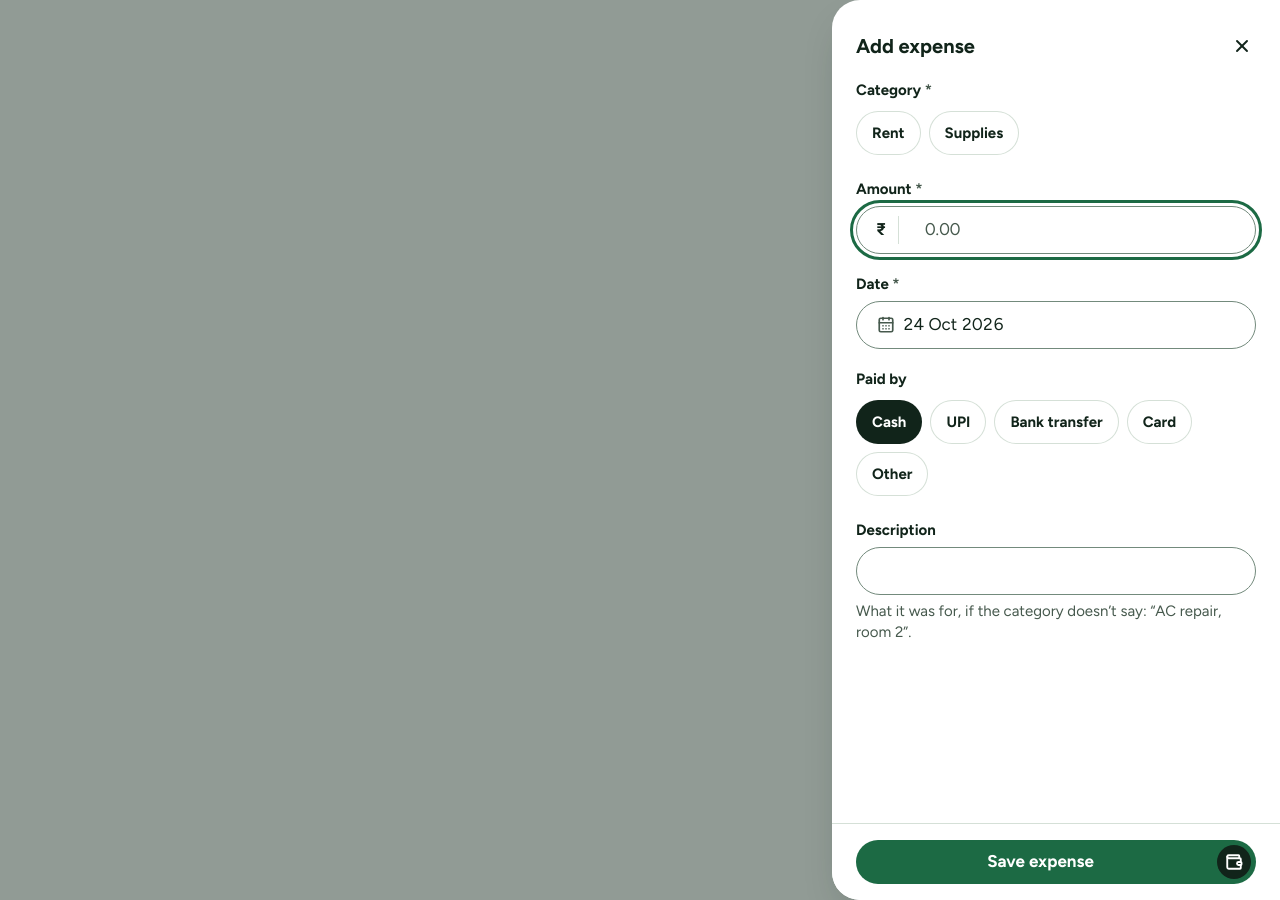
Test case: ExpenseSheet (plan §16; D328, D329, D343) › adds one: a category picked from the chips in use, the amount, today unless changed, cash unless changed
Expected: the radio buttons read "Rent", "Supplies", in this order, [856,111,920,155]; [928,111,1019,155]
Expected: the radio button labelled "Cash" is checked, [856,400,922,444]
// A category must be picked (D343).
Type "1250.50" into the field labelled "Amount *" at (1056, 230), box [856,206,1256,254]
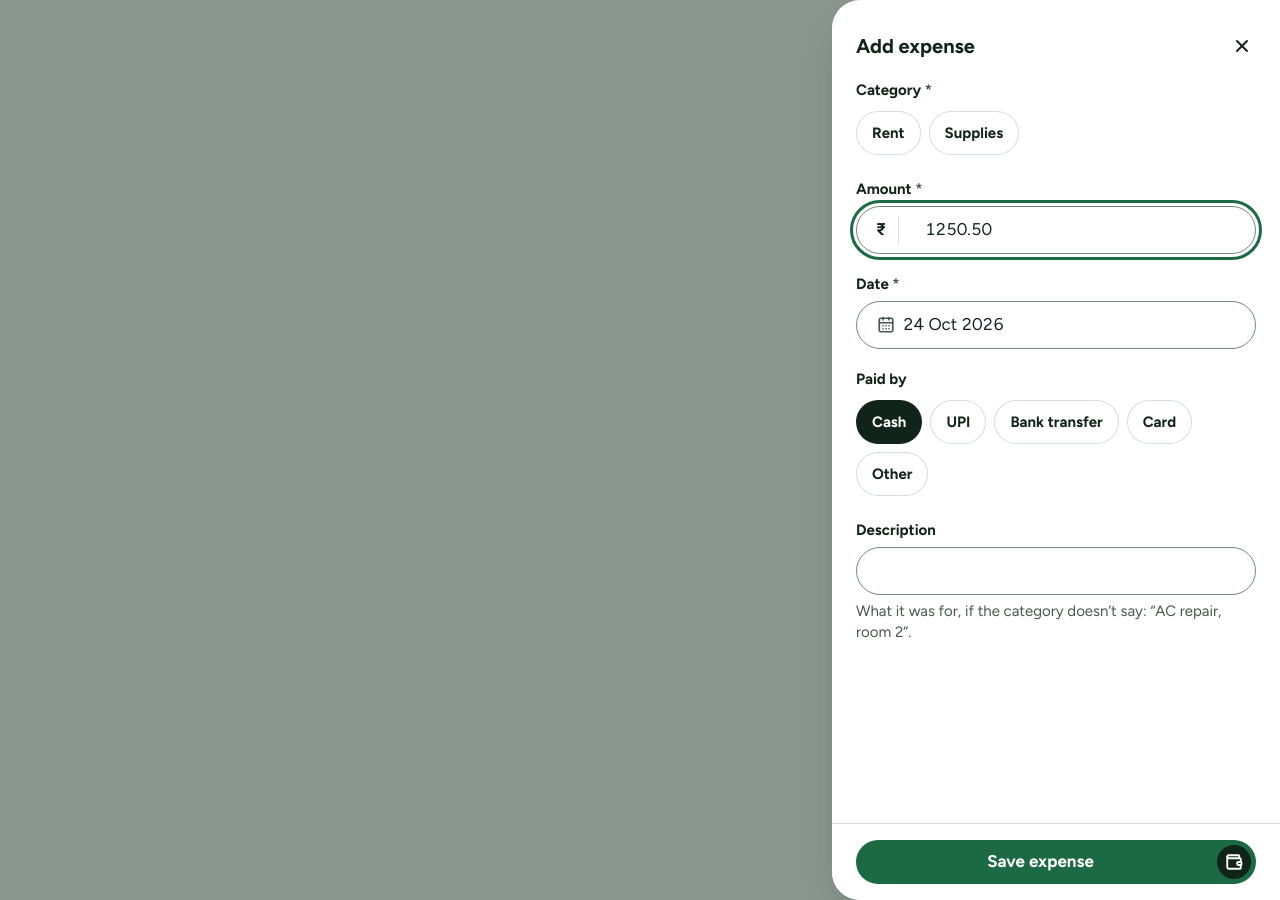
Click the button "Save expense" at (1056, 862), box [856,840,1256,884]
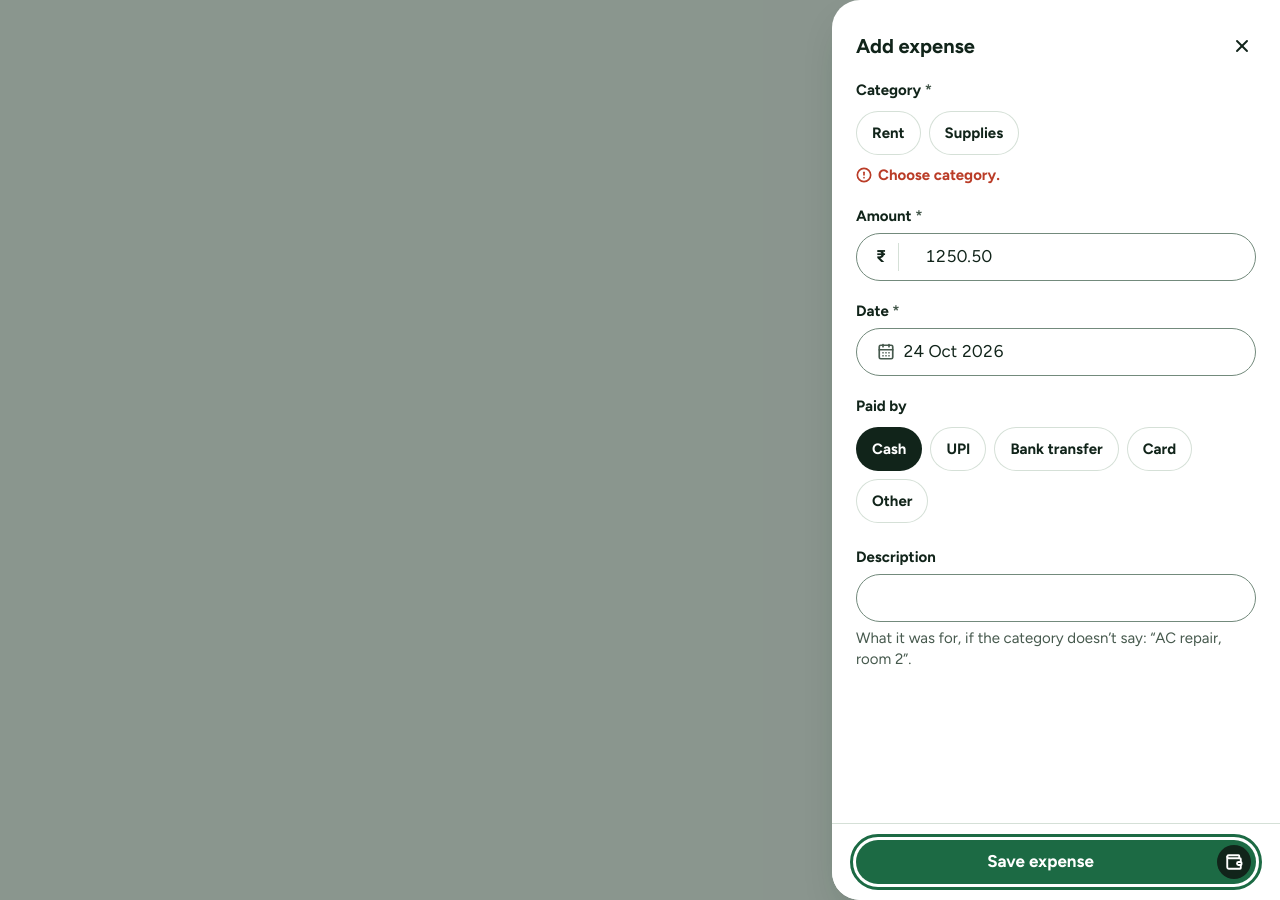
Now the text "Choose category." is shown, box [856,166,1000,184]
Click the radio button labelled "Supplies" at (974, 133), box [928,111,1019,155]
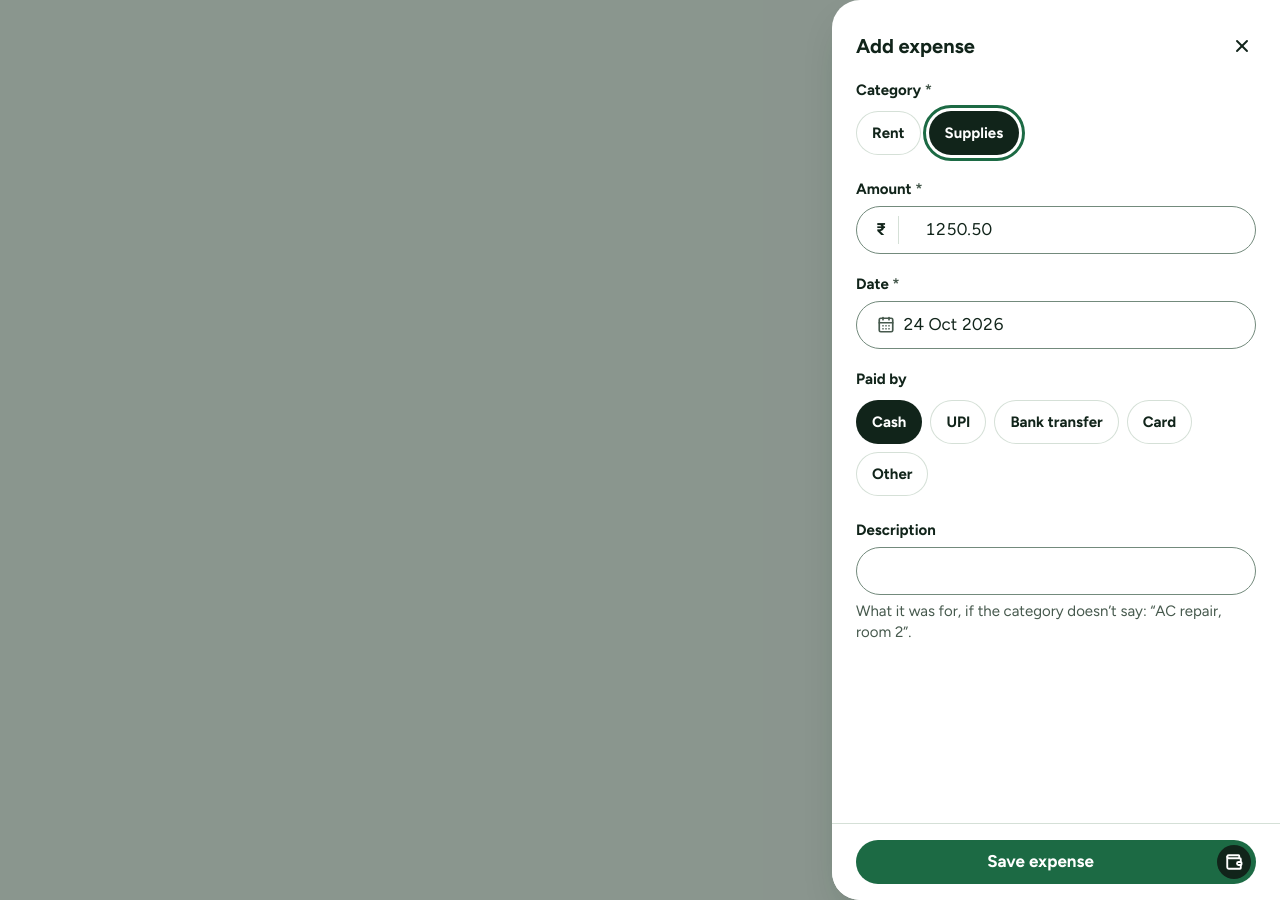
Click the radio button labelled "UPI" at (958, 422), box [930,400,986,444]
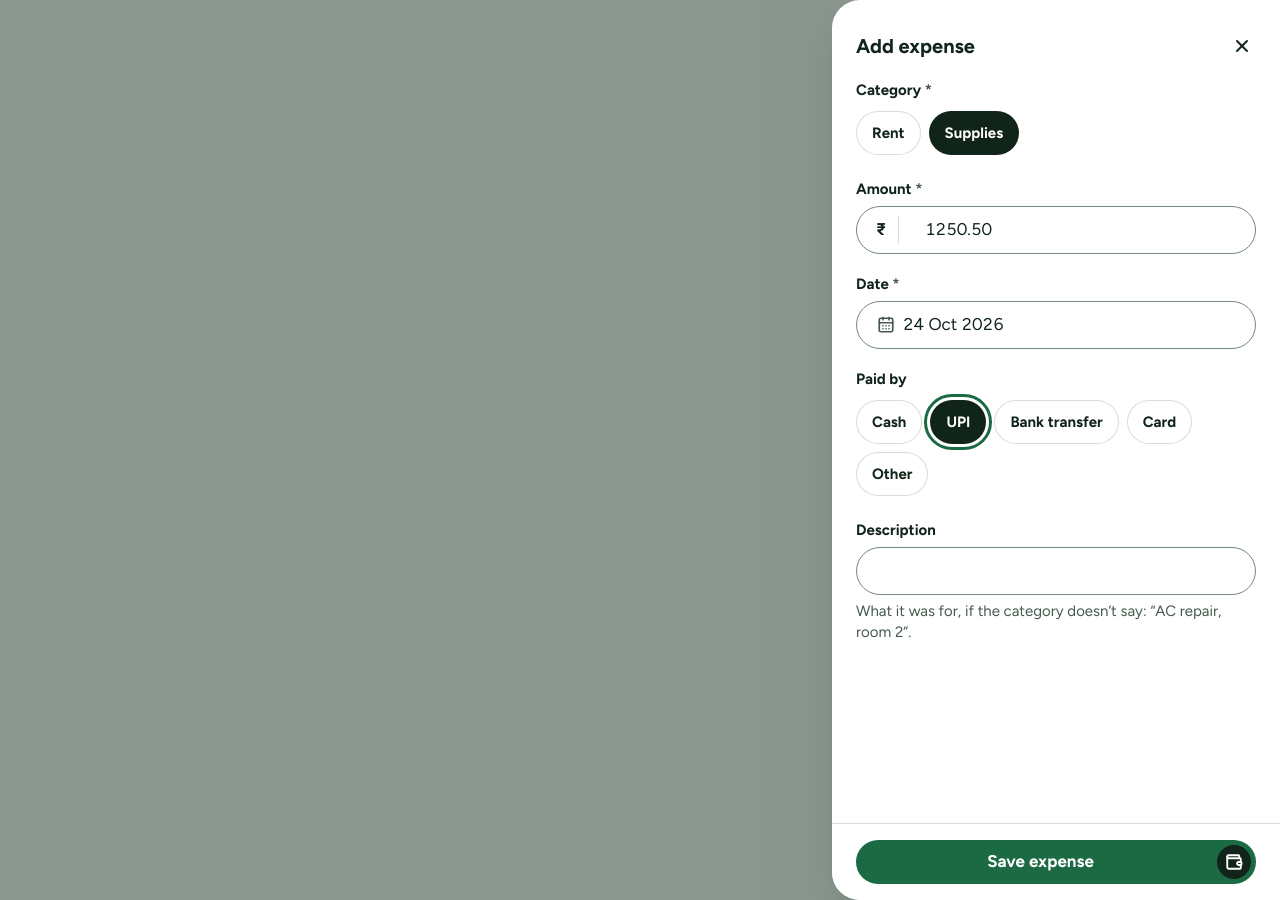
Type "Gloves" into the field labelled "Description" at (1056, 571), box [856,547,1256,595]
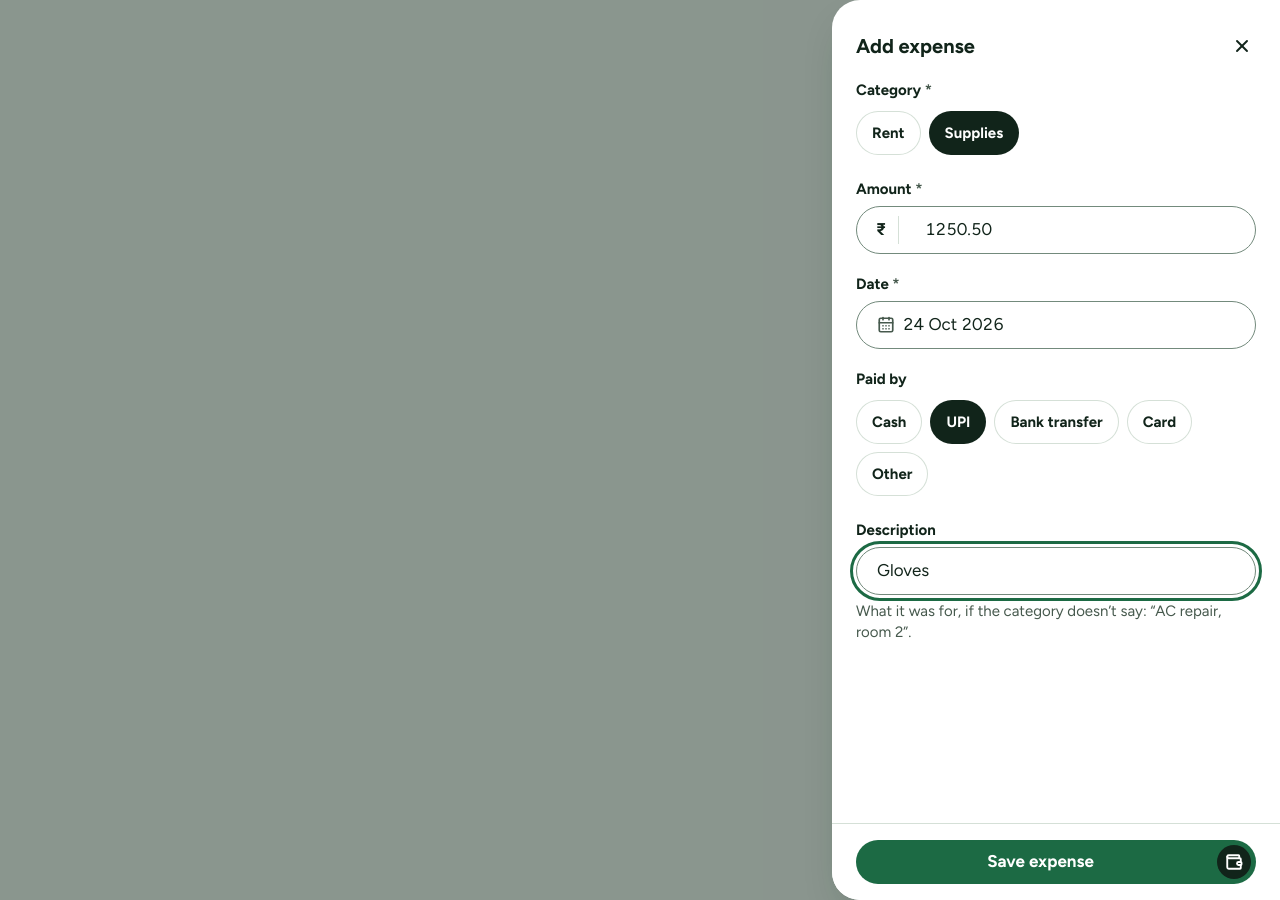
Click the button "Save expense" at (1056, 862), box [856,840,1256,884]
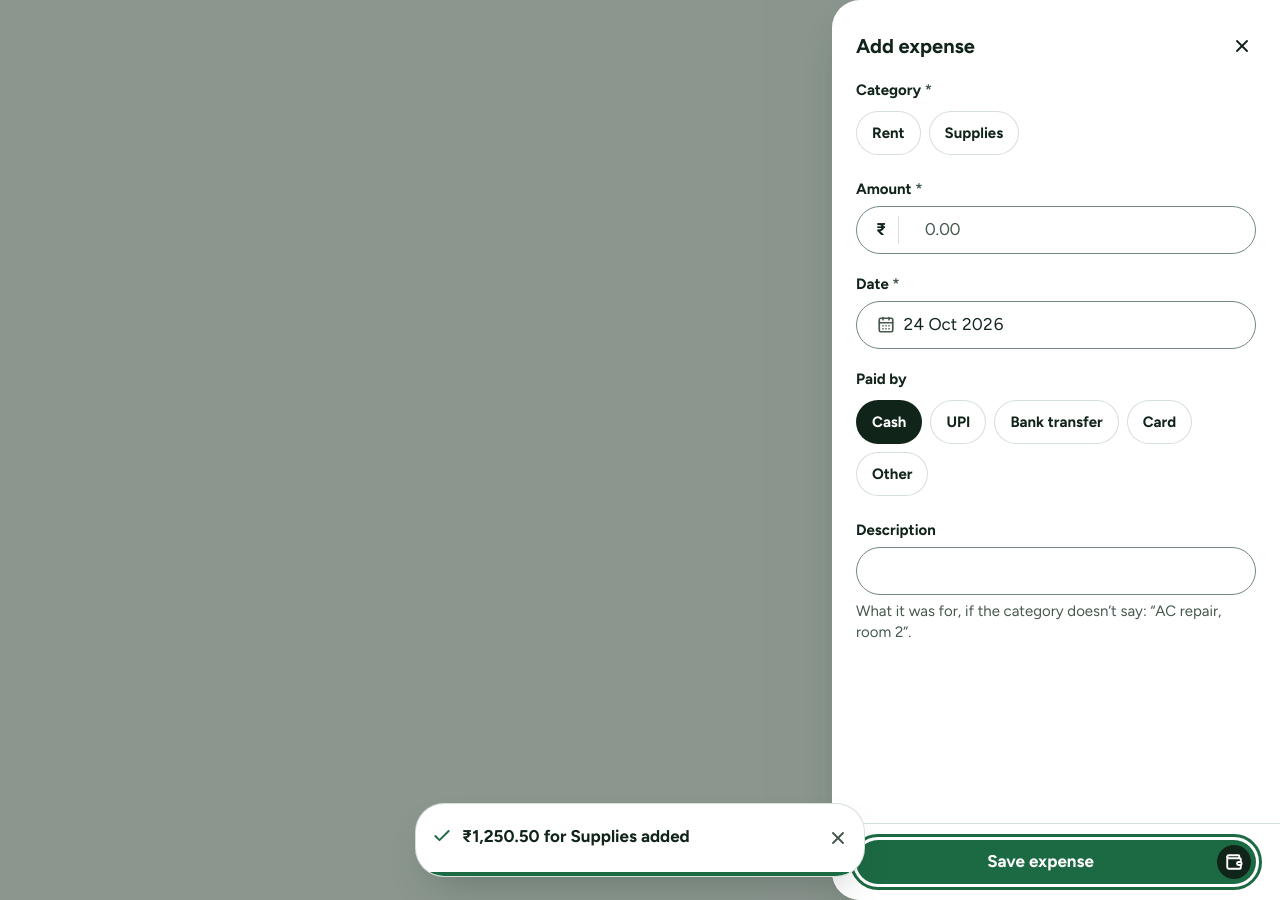
Now the text "₹1,250.50 for Supplies added" is shown, box [462,826,690,846]
